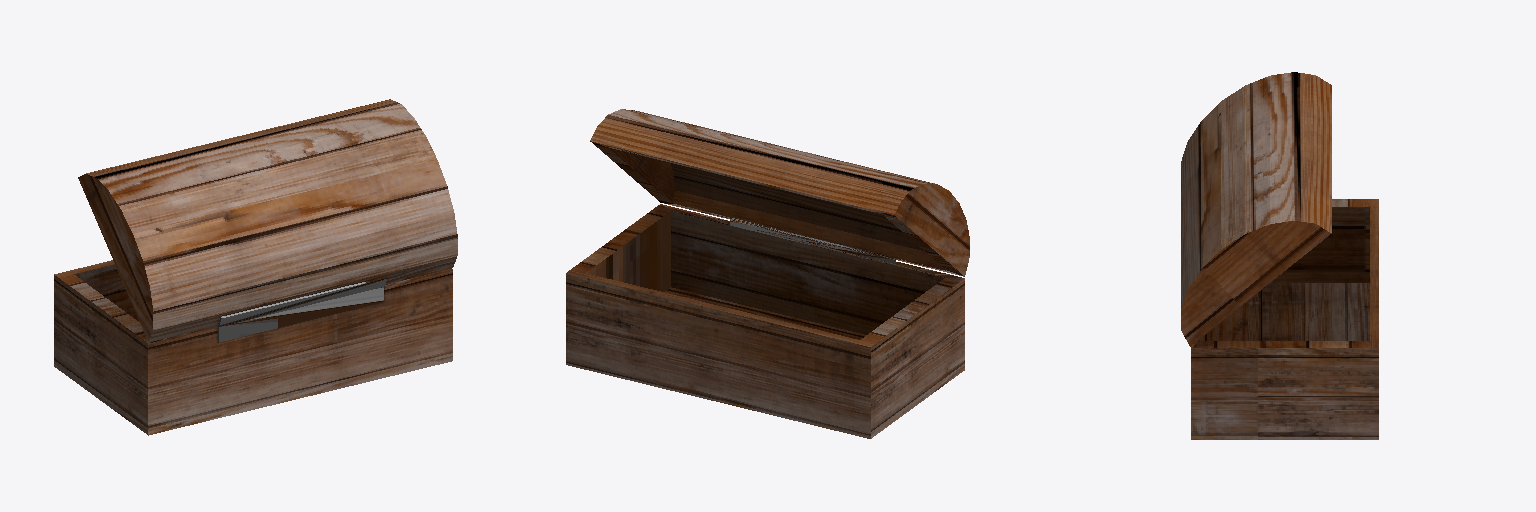
The picture shows the model from 3 angles: view 1: azimuth 30°, elevation 25°; view 2: azimuth 150°, elevation 25°; view 3: azimuth 270°, elevation 25°; orthographic projection.
Visible parts, largest first — view 1: crate_Crate_crateVert; view 2: crate_Crate_crateVert; view 3: crate_Crate_crateVert.
Boxes of the visible parts, x1,y1,x2,y2 form: crate_Crate_crateVert: [54, 99, 457, 435]; crate_Crate_crateVert: [566, 109, 969, 438]; crate_Crate_crateVert: [1181, 72, 1378, 439].
Bounding box in the file's own units: 1.15 × 0.7944 × 0.6526.
1 materials, 1 textured.